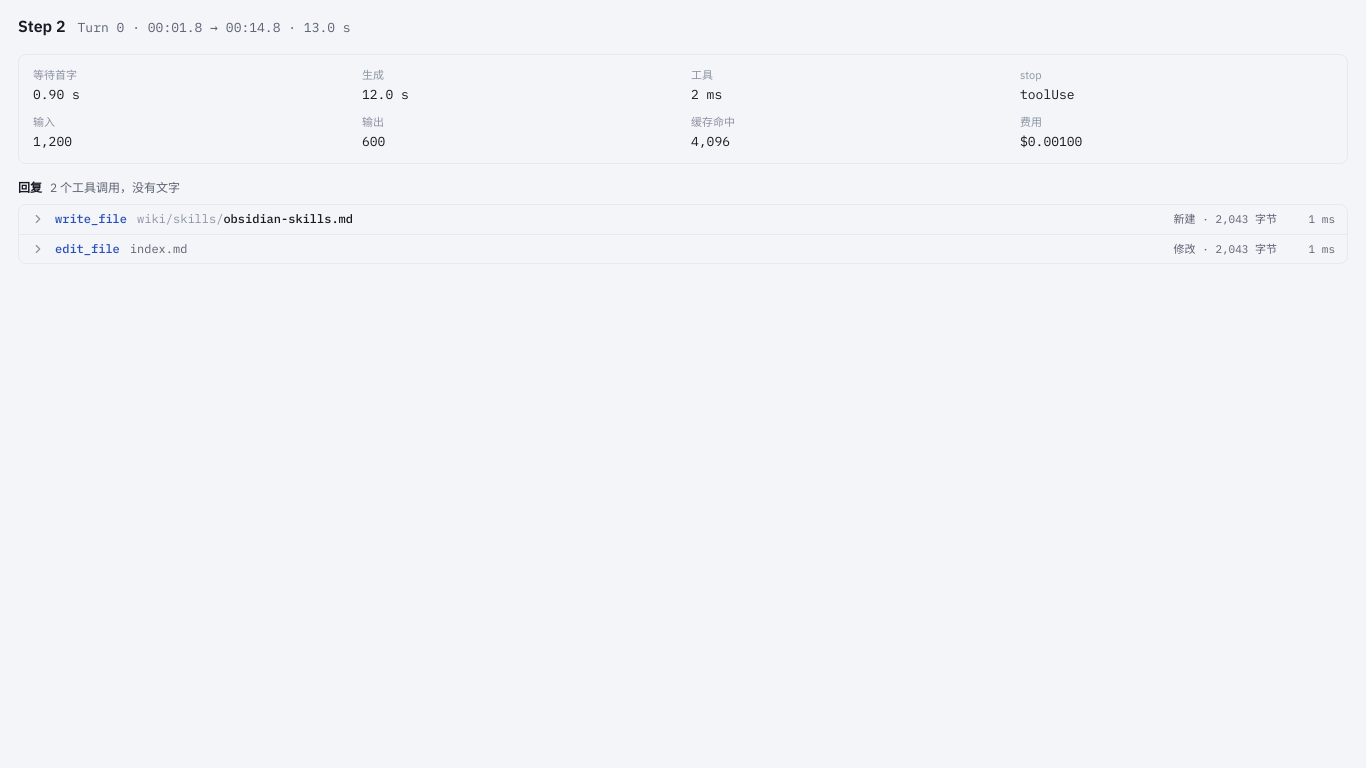
Test: StepDetail › expands a tool call into its arguments, result and Staging write
The width and height of the screenshot is (1366, 768).
Click the button "write_file". click: (91, 219)
box: x1=19 y1=205 x2=1347 y2=234
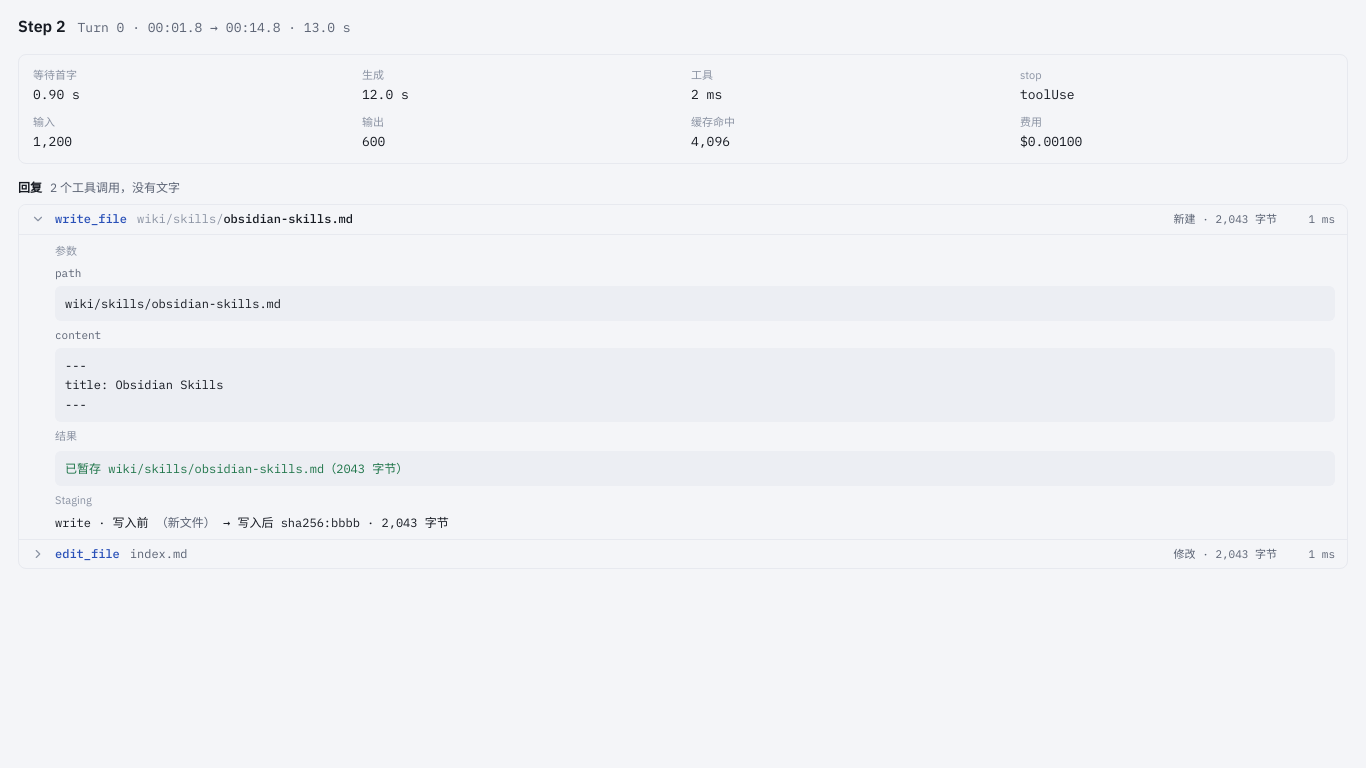
Now the text "write · 写入前 （新文件） → 写入后 sha256:bbbb · 2,043 字节" is shown, box x1=55 y1=514 x2=449 y2=530
